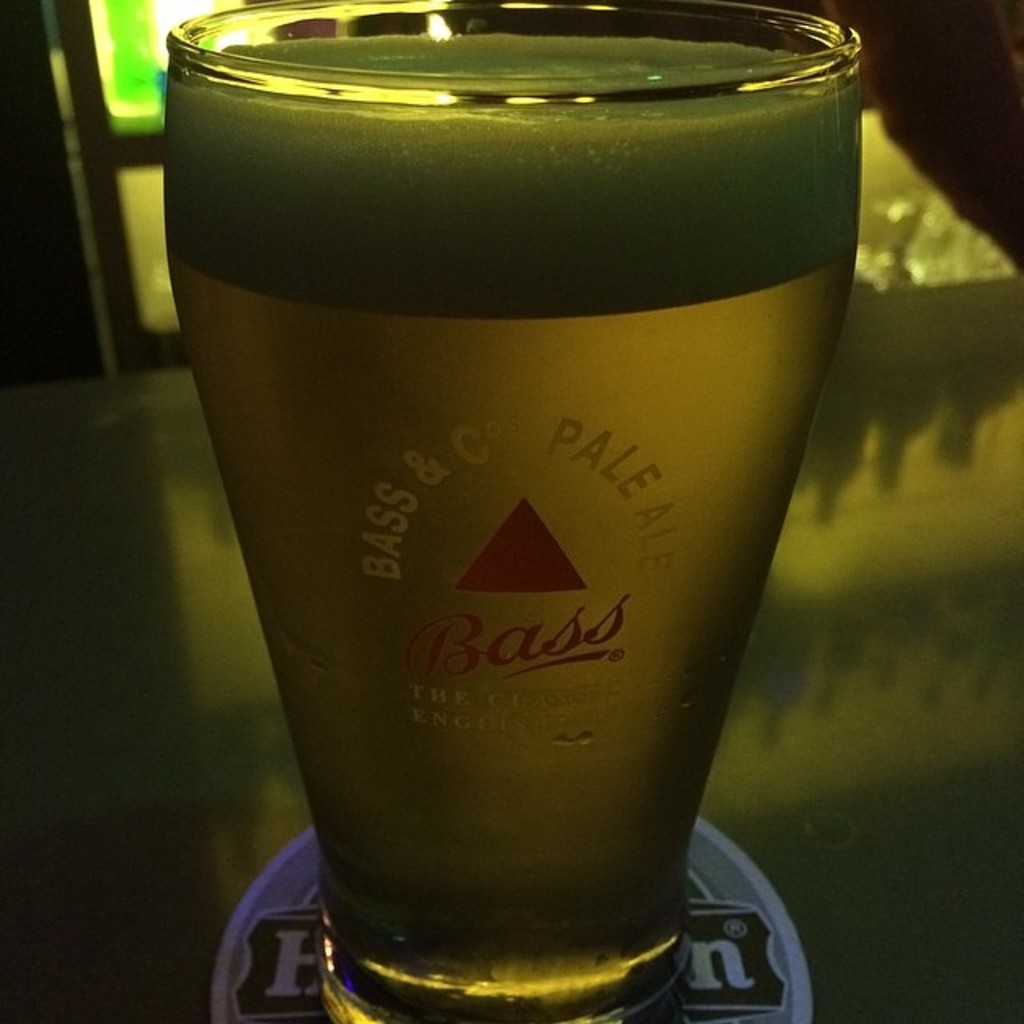Beer: (147, 27, 860, 1024)
